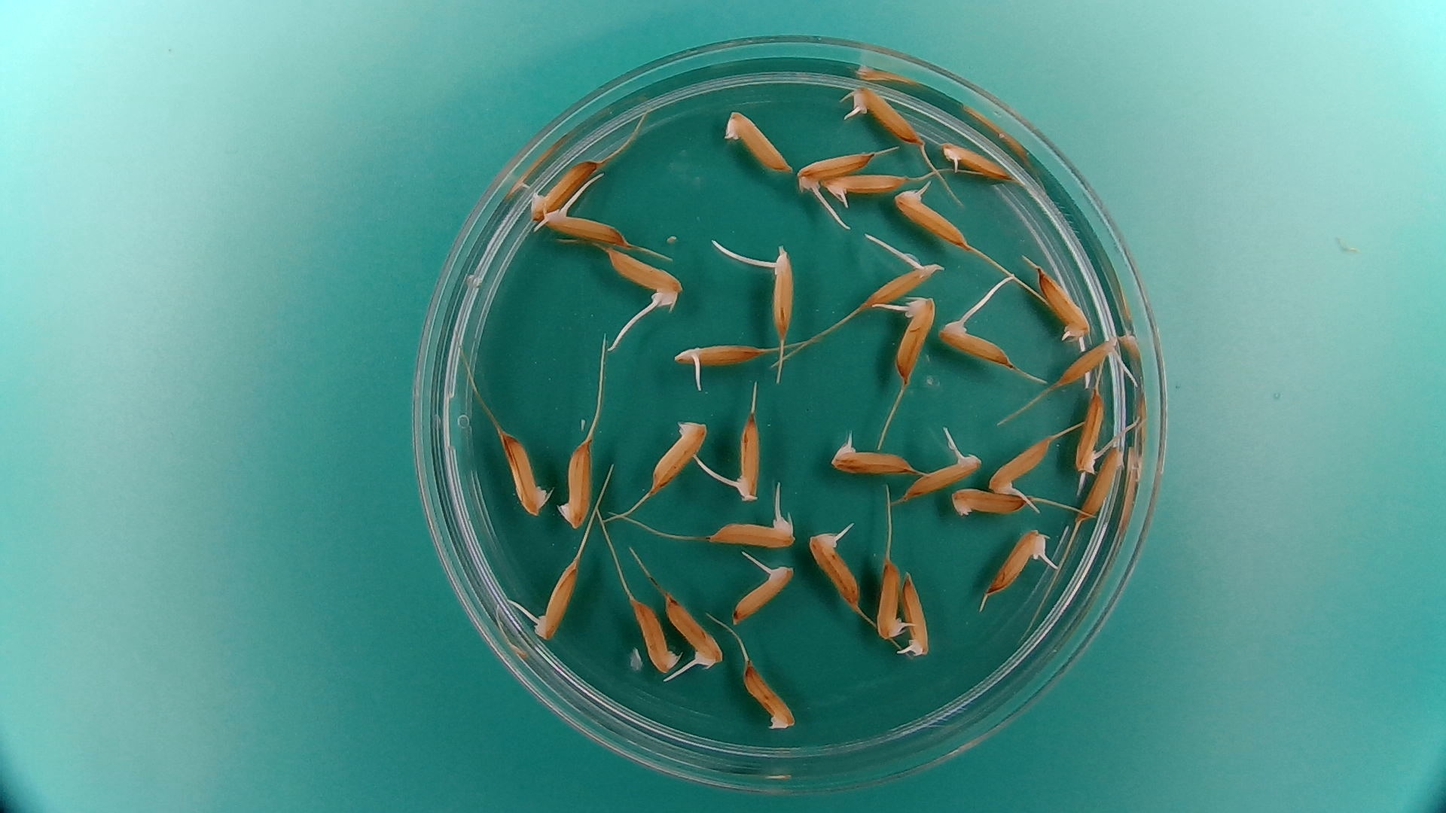no: (526, 157, 607, 227), (721, 104, 796, 176), (496, 427, 551, 519), (646, 419, 709, 494), (629, 594, 681, 677), (741, 659, 798, 732), (1075, 444, 1126, 523), (558, 435, 595, 531), (1072, 386, 1107, 476), (949, 485, 1026, 519)
yes: (889, 179, 972, 249), (841, 81, 924, 148), (807, 519, 864, 610), (600, 245, 681, 308), (661, 592, 725, 670), (902, 443, 986, 501), (982, 528, 1051, 596), (730, 555, 797, 625), (1035, 268, 1092, 345), (538, 206, 641, 247), (987, 435, 1054, 498), (794, 145, 876, 196), (935, 315, 1014, 367), (859, 260, 941, 309), (893, 292, 937, 382), (530, 561, 580, 639), (828, 434, 918, 477), (706, 508, 797, 550), (724, 410, 764, 504), (813, 169, 911, 207), (669, 336, 768, 373), (1053, 336, 1122, 388), (898, 570, 935, 660), (937, 138, 1012, 181), (767, 242, 799, 340), (874, 556, 908, 642)
